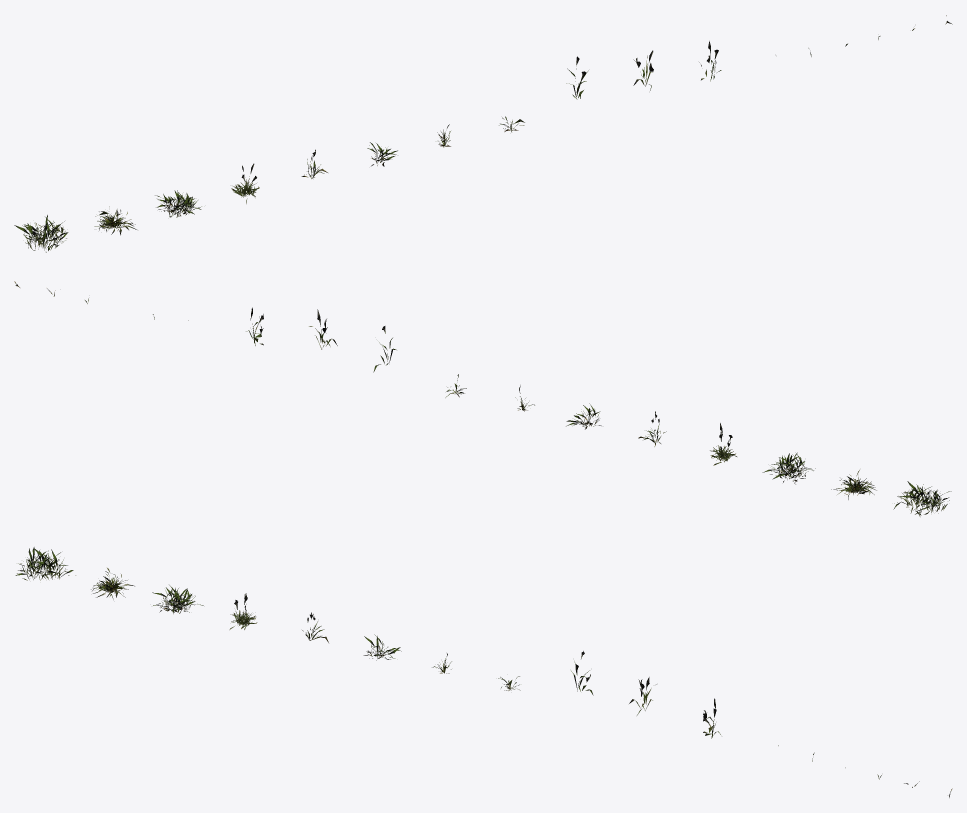
File: grass_medium_01_lod0.gltf
The picture shows the model from 3 angles, top to bottom: view 1: azimuth 30°, elevation 25°; view 2: azimuth 150°, elevation 25°; view 3: azimuth 330°, elevation 25°; orthographic projection.
Parts seen in each view (by area): view 1: grass_medium_01_lod0; view 2: grass_medium_01_lod0; view 3: grass_medium_01_lod0.
Boxes of the visible parts, box(x1,y1,x2,y2) form: grass_medium_01_lod0: box(14, 15, 952, 252); grass_medium_01_lod0: box(14, 281, 951, 516); grass_medium_01_lod0: box(15, 547, 952, 797).
Size of the model in its own units: 5.59 by 0.3272 by 0.3266.
1 material, 1 textured.
